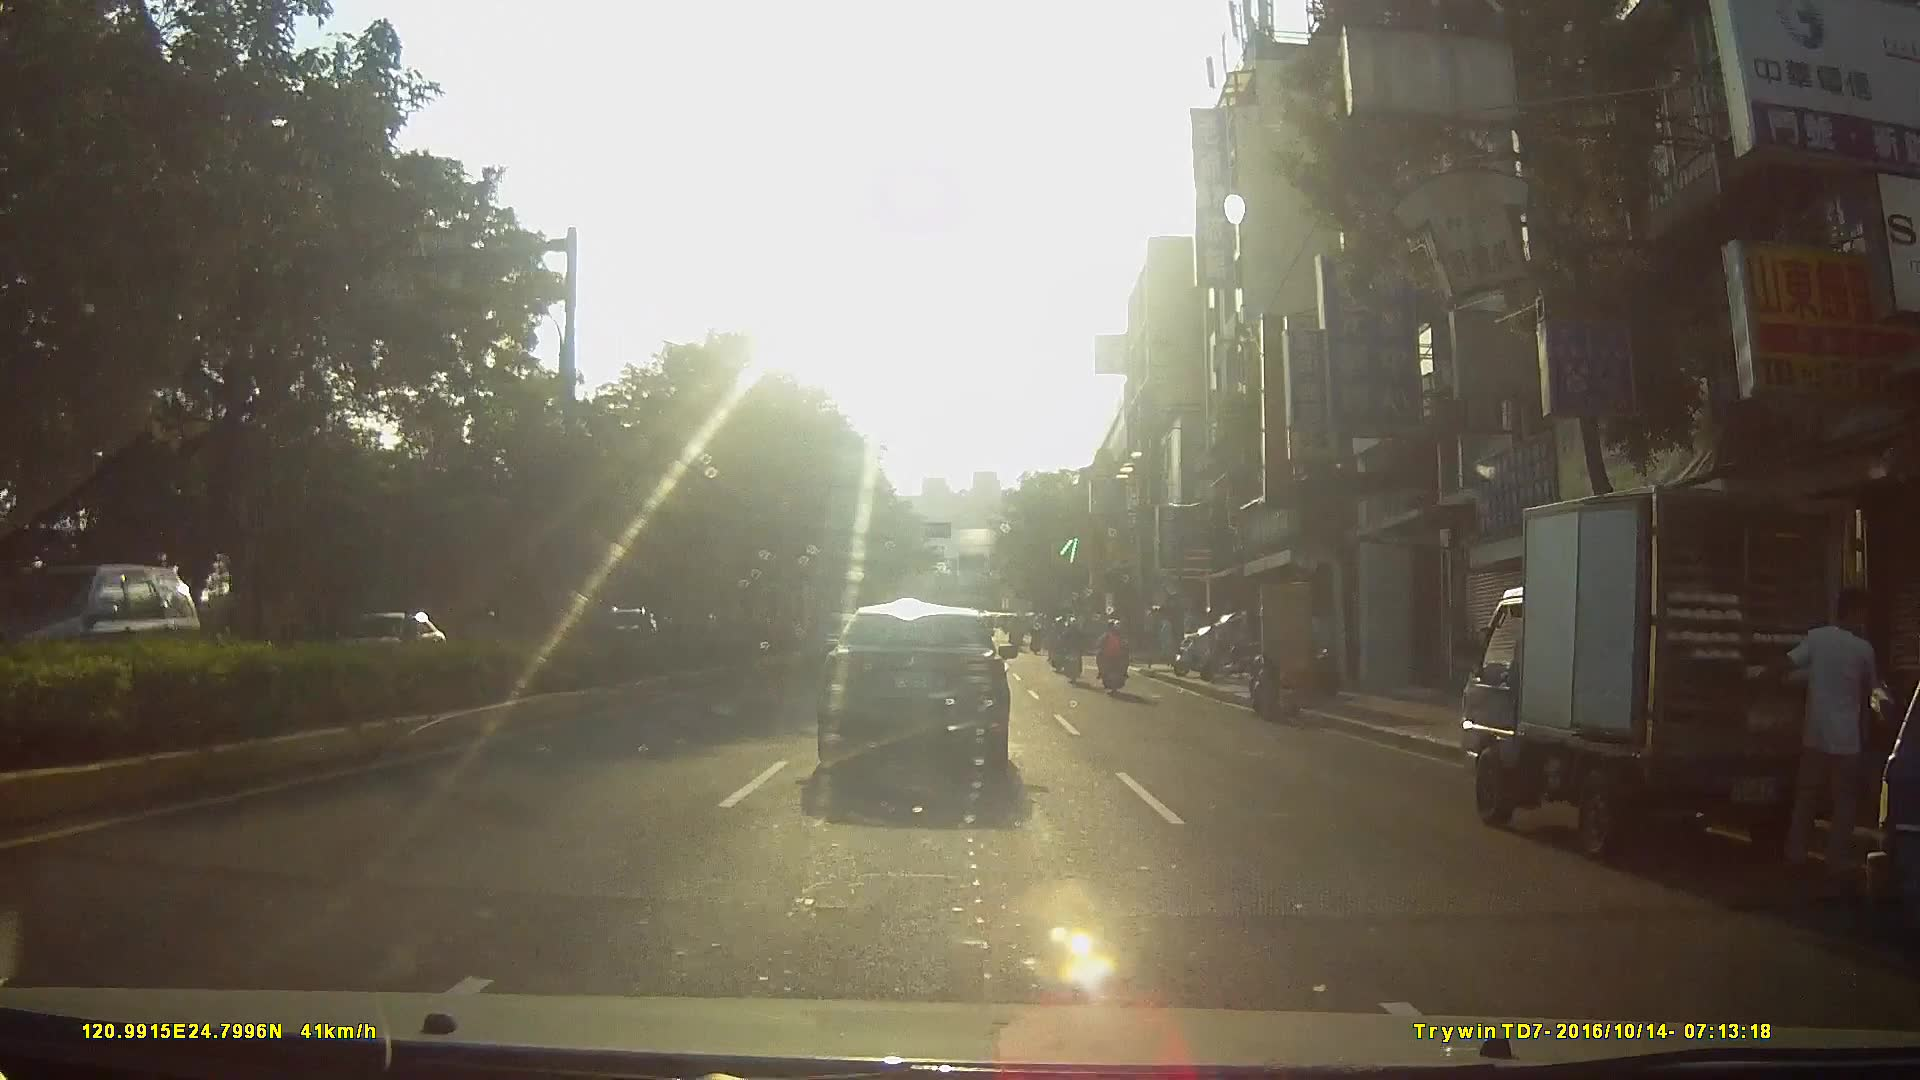pedestrian: (1774, 573, 1876, 884)
rider: (1095, 617, 1131, 697), (1059, 612, 1085, 687), (1049, 608, 1069, 667)
vehicle: (1454, 468, 1872, 855), (810, 594, 1021, 784), (5, 563, 195, 703)
